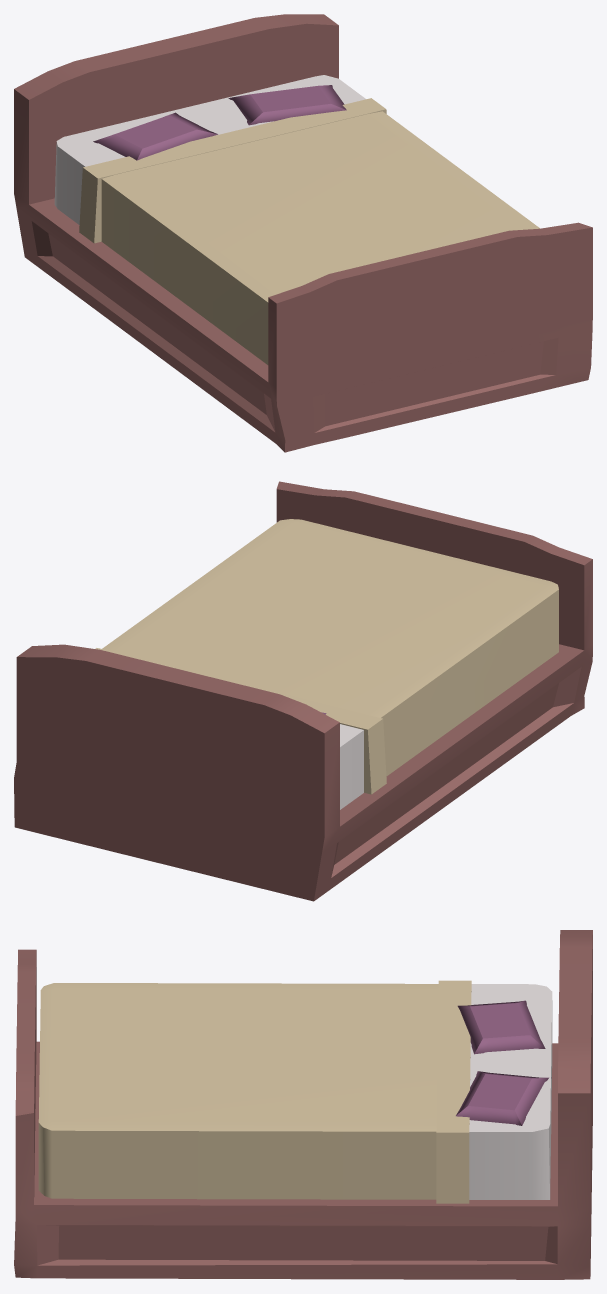
The model's file is ParentBedMostRecent.fbx.
The picture shows the model from 3 angles, top to bottom: view 1: azimuth 30°, elevation 25°; view 2: azimuth 150°, elevation 25°; view 3: azimuth 270°, elevation 25°; orthographic projection. The views are drawn at different scales.
Parts seen in each view (by area): view 1: ParentBedForScaling:ParentBedBase, ParentBedForScaling:ParentBedMattress, ParentBedForScaling:parentBedPillow2, ParentBedForScaling:ParentBedPillow1; view 2: ParentBedForScaling:ParentBedBase, ParentBedForScaling:ParentBedMattress; view 3: ParentBedForScaling:ParentBedMattress, ParentBedForScaling:ParentBedBase, ParentBedForScaling:parentBedPillow2, ParentBedForScaling:ParentBedPillow1.
Part boxes in pixels (bbox=[...]): ParentBedForScaling:ParentBedBase: bbox=[14, 14, 592, 452]; ParentBedForScaling:ParentBedMattress: bbox=[54, 75, 539, 364]; ParentBedForScaling:parentBedPillow2: bbox=[228, 85, 346, 125]; ParentBedForScaling:ParentBedPillow1: bbox=[93, 112, 217, 160]; ParentBedForScaling:ParentBedBase: bbox=[14, 481, 592, 901]; ParentBedForScaling:ParentBedMattress: bbox=[95, 519, 558, 809]; ParentBedForScaling:ParentBedMattress: bbox=[38, 980, 552, 1203]; ParentBedForScaling:ParentBedBase: bbox=[14, 930, 592, 1279]; ParentBedForScaling:parentBedPillow2: bbox=[456, 1071, 551, 1125]; ParentBedForScaling:ParentBedPillow1: bbox=[457, 1000, 545, 1054].
Bounding box in the file's own units: 1.41 × 0.7866 × 2.07.
